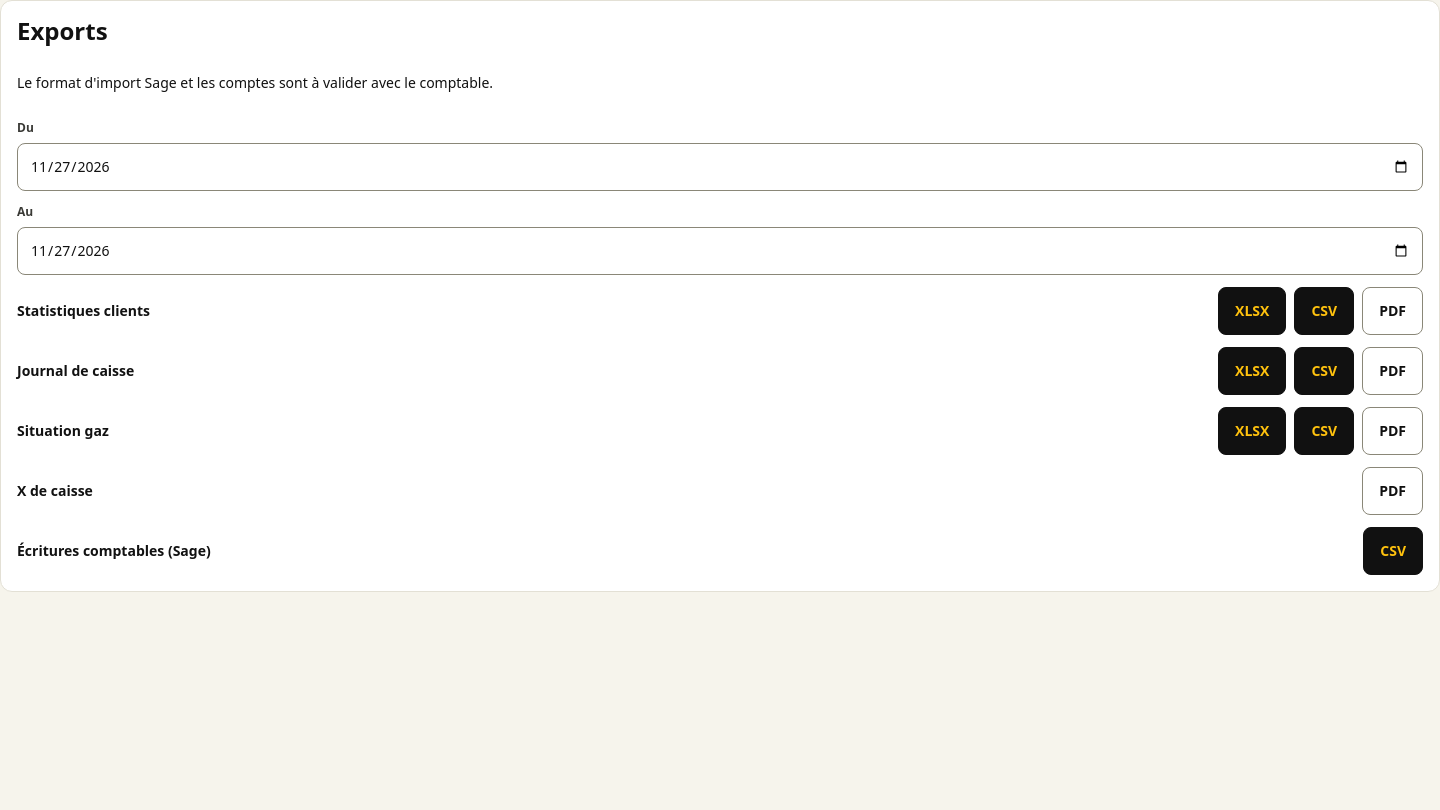
Test case: exports du serveur › signale un export impossible (droits ou réseau)
Click the button with aria-label "stock-gaz.csv" at (1324, 431), box [1294,407,1354,455]
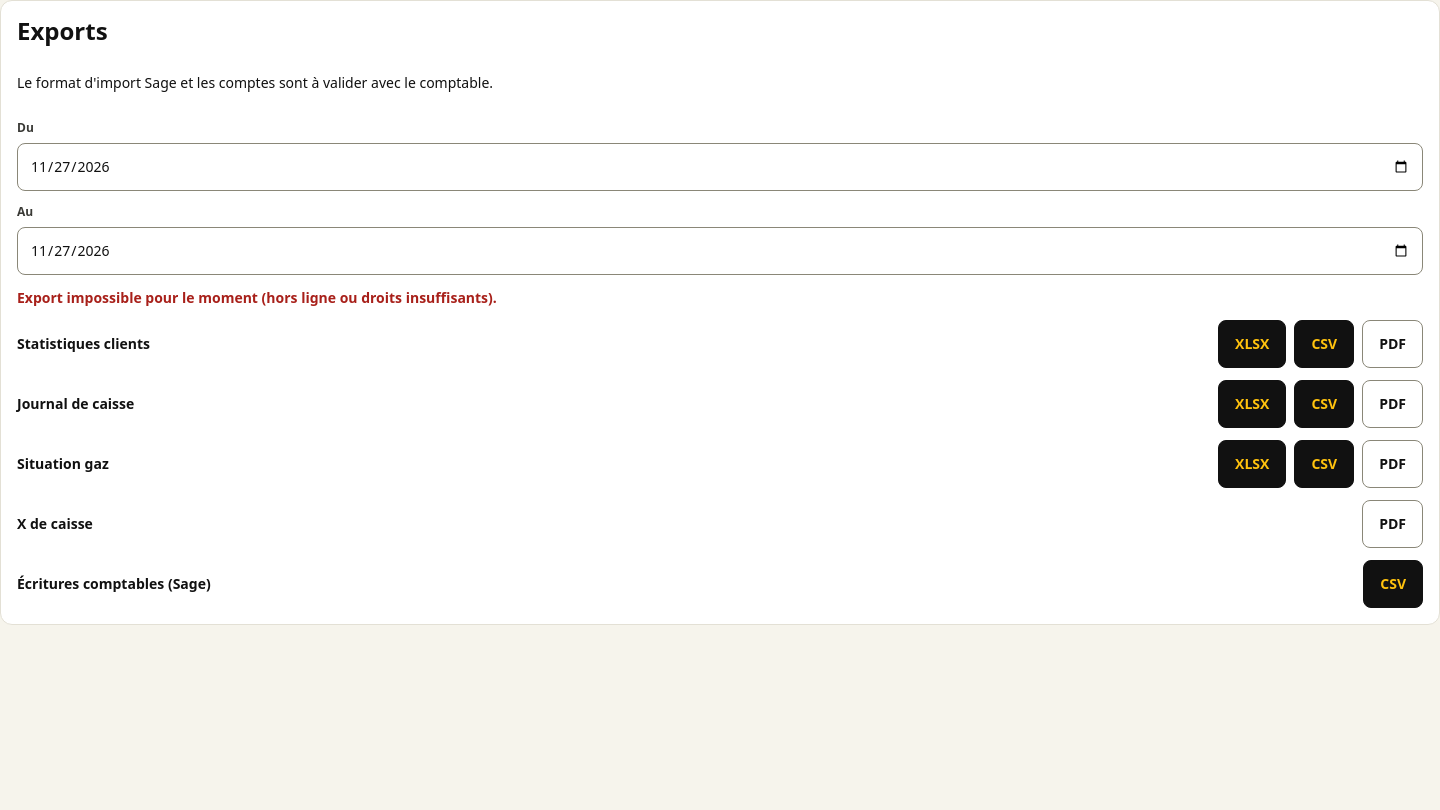
Expected: the message shows "Export impossible", [17,288,497,307]
